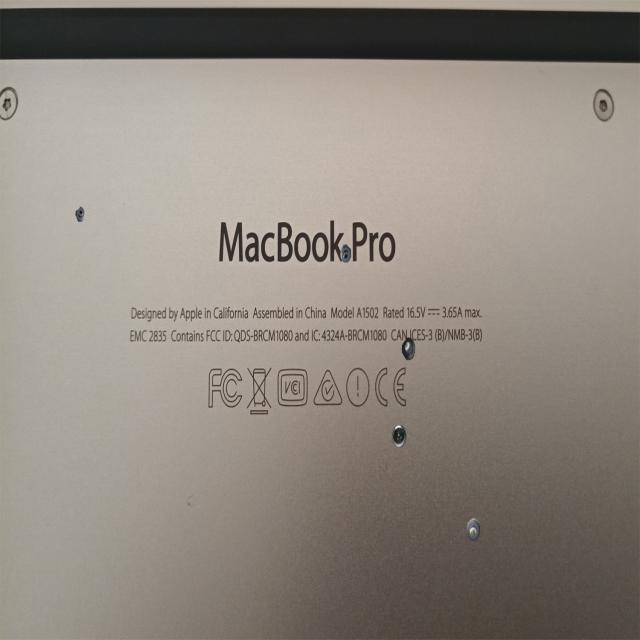lock: (392, 424, 406, 448)
missing_screw: (466, 517, 481, 542), (401, 337, 415, 360), (340, 244, 351, 263), (75, 206, 84, 222)
